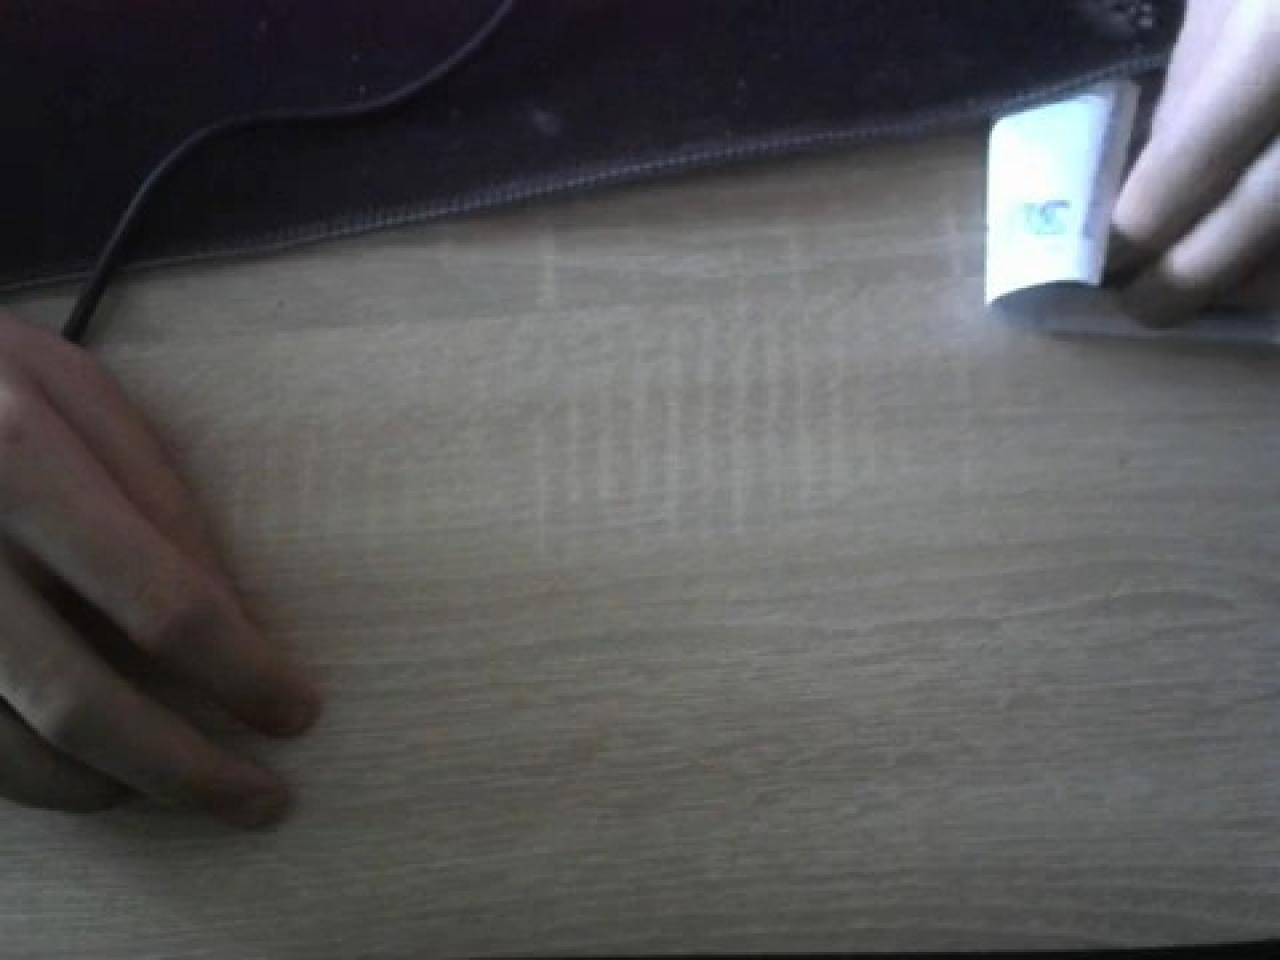20leva: (982, 83, 1139, 307)
